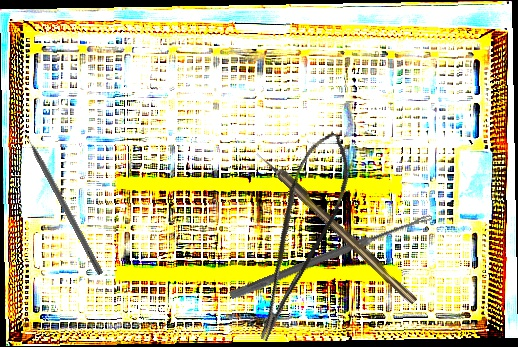Hook Surgical: (254, 148, 419, 306), (19, 124, 106, 276)
Micro Scissor: (221, 124, 370, 346)
Surgical Spoon: (228, 210, 434, 302)
